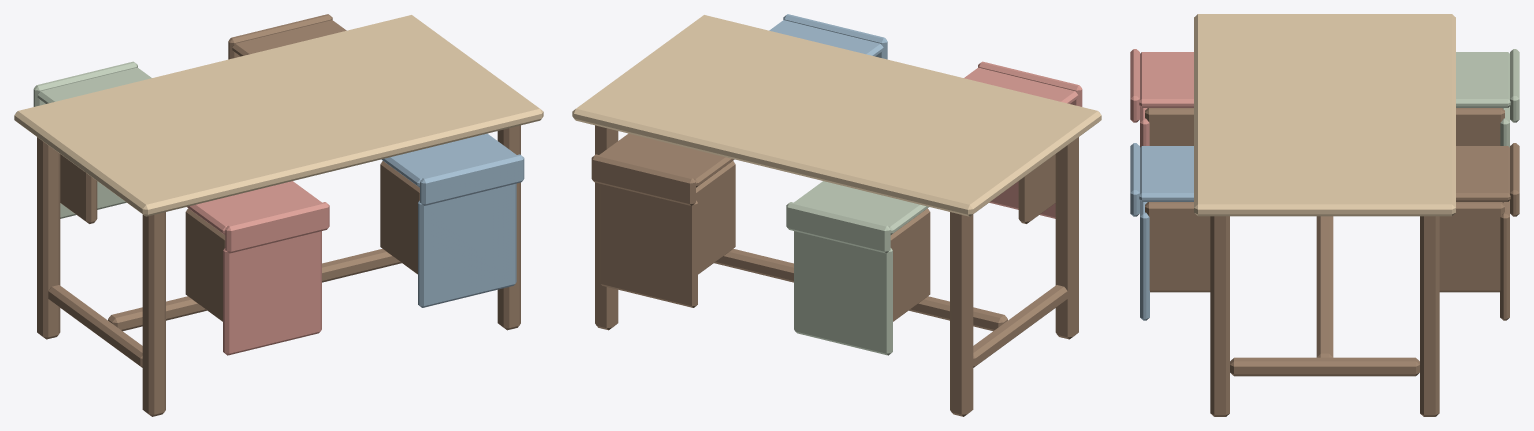
Rendered from HangOnChairs.glb.
3 renders of one model, left to right at view 1: azimuth 30°, elevation 25°; view 2: azimuth 150°, elevation 25°; view 3: azimuth 270°, elevation 25°, orthographic.
Parts seen in each view (by area): view 1: HangOnChairs_Body; view 2: HangOnChairs_Body; view 3: HangOnChairs_Body.
Boxes of the visible parts, left/top/right/bottom form: HangOnChairs_Body: left=14, top=14, right=543, bottom=416; HangOnChairs_Body: left=572, top=14, right=1101, bottom=416; HangOnChairs_Body: left=1130, top=14, right=1519, bottom=416.
Size of the model in its own units: 1.4 by 0.74 by 1.19.
